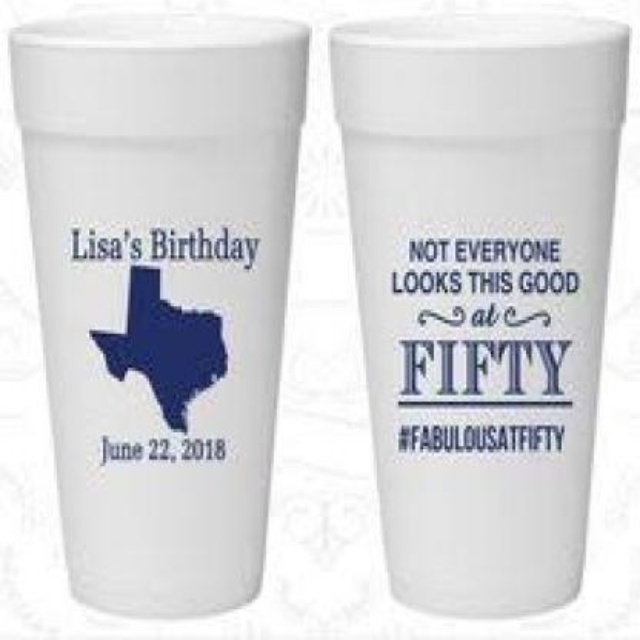trash: (12, 20, 306, 614), (332, 22, 626, 614)
